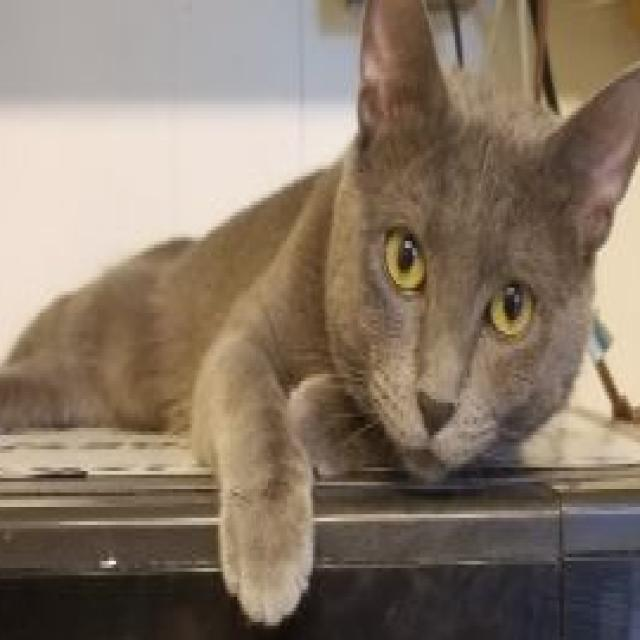Russian Blue: (0, 0, 640, 629)
